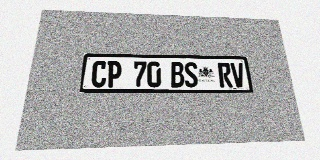0: (147, 61, 161, 87)
7: (132, 61, 147, 87)
B: (170, 62, 185, 87)
C: (90, 61, 107, 87)
P: (106, 61, 122, 87)
R: (217, 62, 233, 87)
S: (184, 62, 198, 87)
V: (230, 63, 246, 87)
